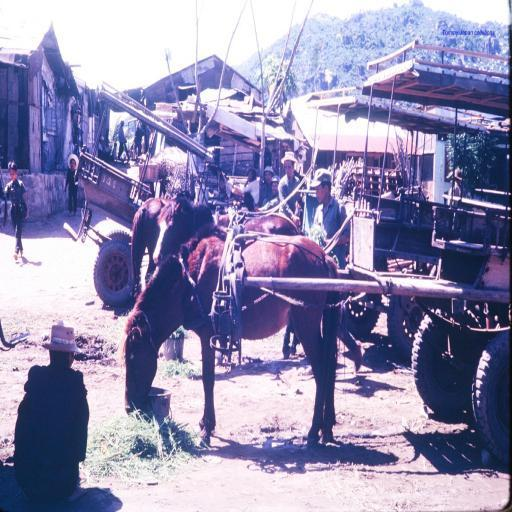horse: (123, 222, 341, 444), (150, 195, 302, 369), (130, 196, 178, 302)
